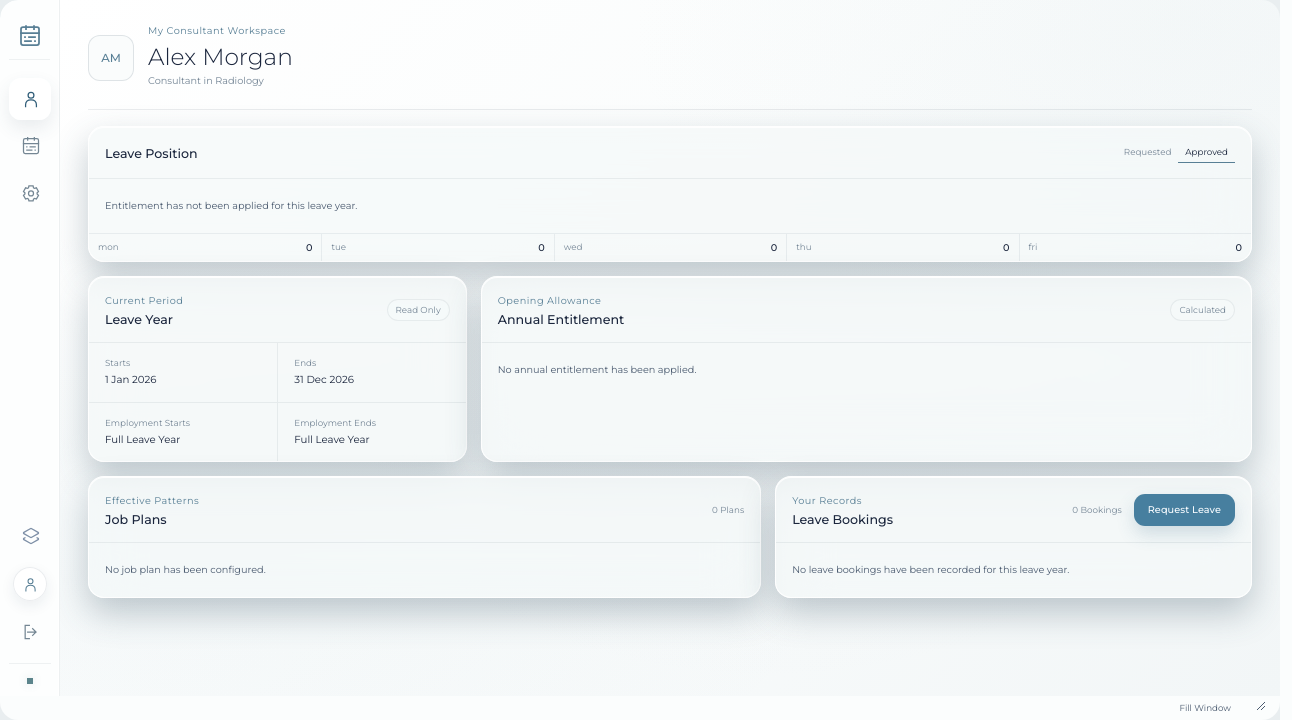
Member application workspace › keeps a Settings destination while showing Members only relevant categories
This screenshot has width=1292, height=720.
Expected: the heading "Alex Morgan" is shown, [148,41,293,73]
Click the button named "Settings" at (30, 193), box [9,172,51,214]
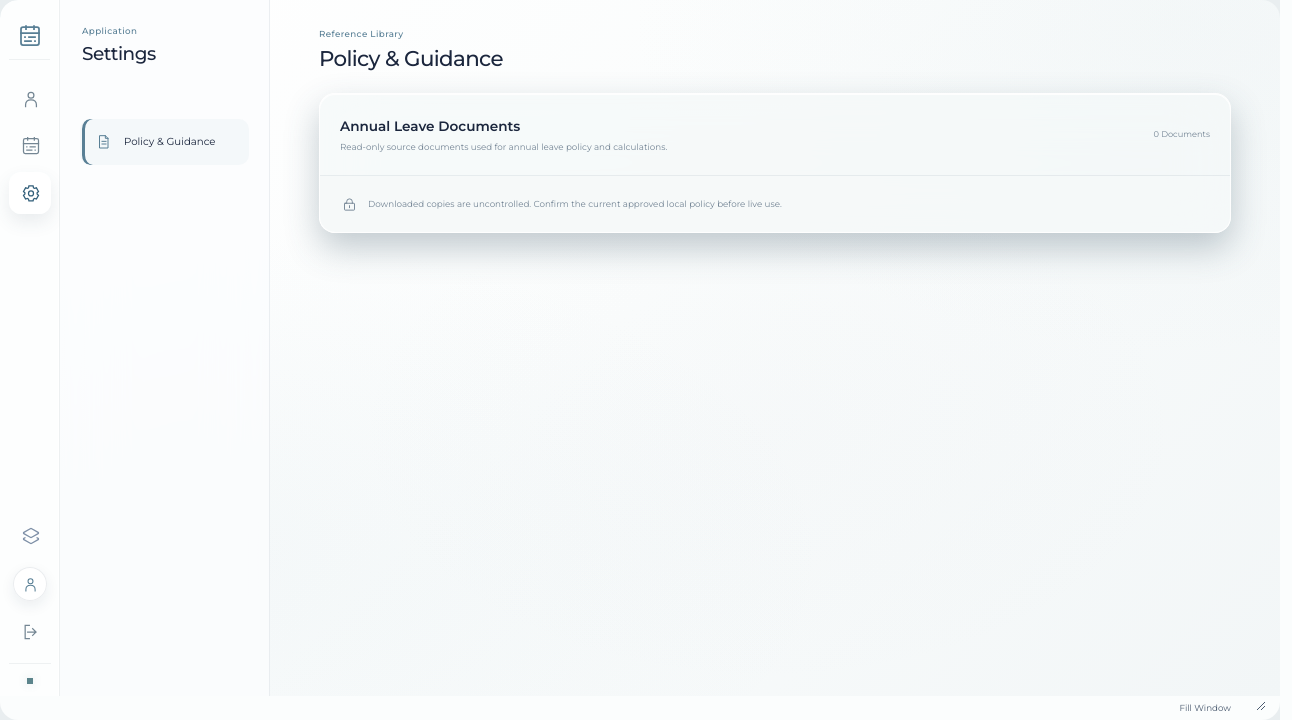
Expected: the heading "Settings" is shown, [82,42,156,65]
Expected: the button "Policy & Guidance" is shown, [80,119,249,165]
